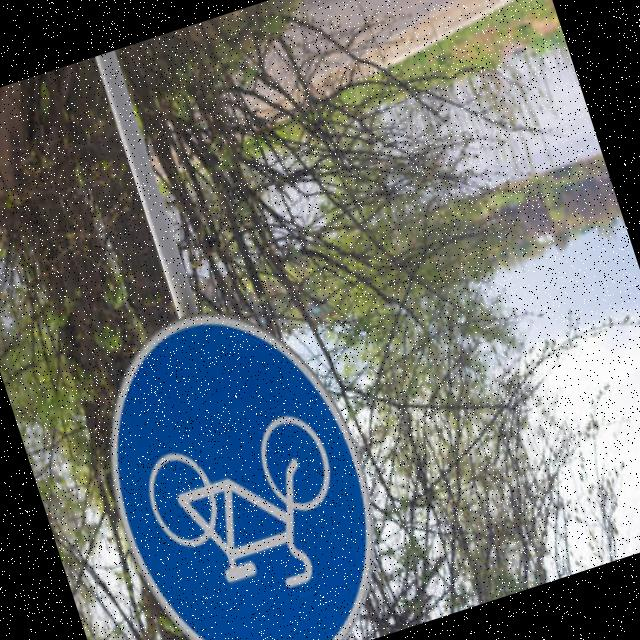bicycle: (59, 269, 428, 640)
